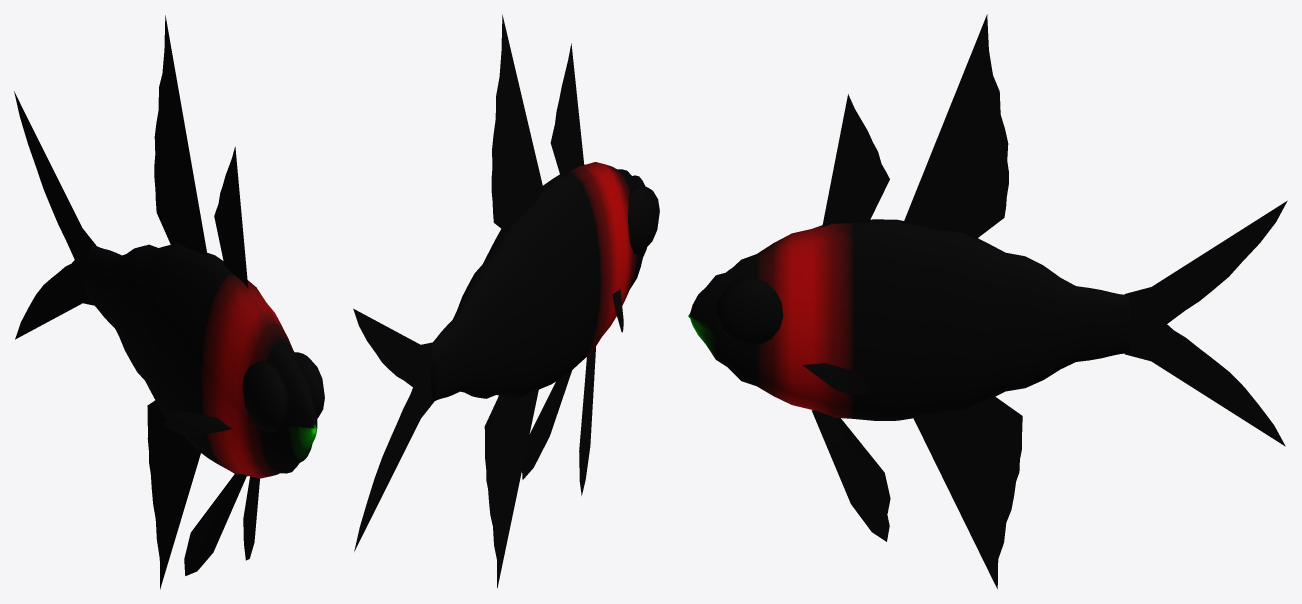
The model's file is banggai-cardinal.glb.
3 renders of one model, left to right at view 1: azimuth 30°, elevation 25°; view 2: azimuth 150°, elevation 25°; view 3: azimuth 270°, elevation 25°, orthographic.
Visible parts, largest first — view 1: banggai_body, banggai_dorsal, banggai_caudal, banggai_anal, banggai_dorsal1, banggai_eyeL, banggai_pelvicL, banggai_pectoralL, banggai_pelvicR, banggai_eyeR; view 2: banggai_body, banggai_dorsal, banggai_caudal, banggai_anal, banggai_dorsal1, banggai_eyeL, banggai_pelvicR, banggai_pelvicL; view 3: banggai_body, banggai_dorsal, banggai_caudal, banggai_anal, banggai_dorsal1, banggai_eyeR, banggai_pelvicR, banggai_pectoralR, banggai_pelvicL.
Part boxes in pixels (left/top/right/bottom): banggai_body: left=84, top=243, right=317, bottom=478; banggai_dorsal: left=154, top=15, right=207, bottom=255; banggai_caudal: left=14, top=91, right=95, bottom=339; banggai_anal: left=147, top=400, right=200, bottom=589; banggai_dorsal1: left=214, top=146, right=248, bottom=288; banggai_eyeL: left=242, top=361, right=287, bottom=432; banggai_pelvicL: left=184, top=474, right=246, bottom=575; banggai_pectoralL: left=165, top=411, right=231, bottom=436; banggai_pelvicR: left=243, top=476, right=259, bottom=560; banggai_eyeR: left=295, top=352, right=324, bottom=418; banggai_body: left=431, top=162, right=646, bottom=402; banggai_dorsal: left=491, top=14, right=543, bottom=233; banggai_caudal: left=353, top=308, right=433, bottom=551; banggai_anal: left=484, top=389, right=538, bottom=588; banggai_dorsal1: left=550, top=43, right=584, bottom=177; banggai_eyeL: left=628, top=185, right=659, bottom=254; banggai_pelvicR: left=522, top=371, right=571, bottom=479; banggai_pelvicL: left=579, top=347, right=595, bottom=495; banggai_body: left=688, top=219, right=1130, bottom=420; banggai_dorsal: left=903, top=14, right=1008, bottom=238; banggai_caudal: left=1124, top=200, right=1287, bottom=446; banggai_anal: left=913, top=396, right=1022, bottom=588; banggai_dorsal1: left=822, top=94, right=889, bottom=226; banggai_eyeR: left=716, top=279, right=783, bottom=345; banggai_pelvicR: left=811, top=410, right=889, bottom=541; banggai_pectoralR: left=802, top=363, right=867, bottom=395; banggai_pelvicL: left=834, top=417, right=890, bottom=513.
Bounding box in the file's own units: 0.3158 × 1.44 × 1.36.
